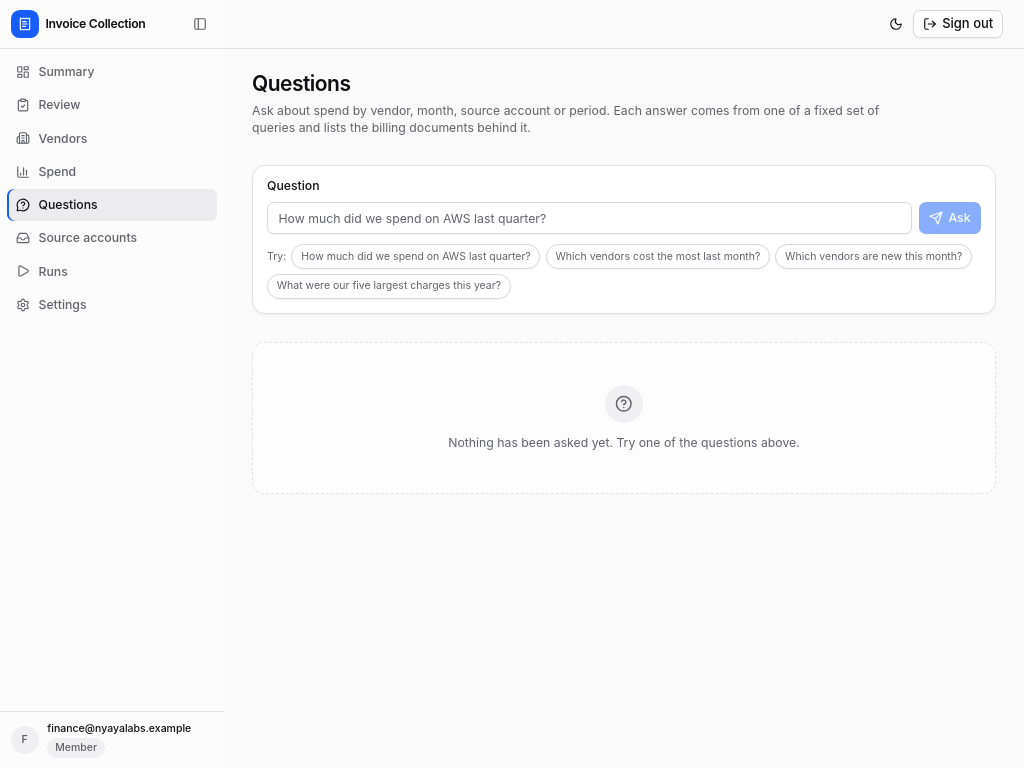
Scenario: an answer shows its sentence, the query in plain words and its result
The width and height of the screenshot is (1024, 768).
Expected: the heading "Questions" is shown, [252,71,350,96]
Type "How much did we spend on AWS this summer?" into the field labelled "Question" at (589,218), box [267,202,912,234]
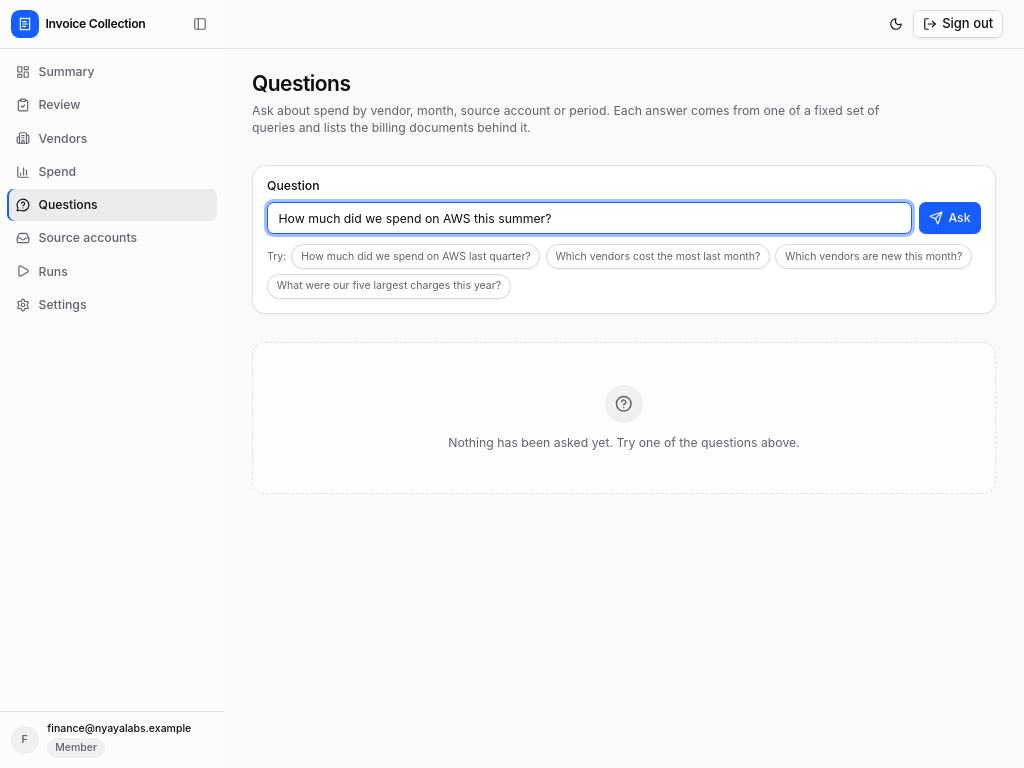
Click the button "Ask" at (950,218), box [919,202,981,234]
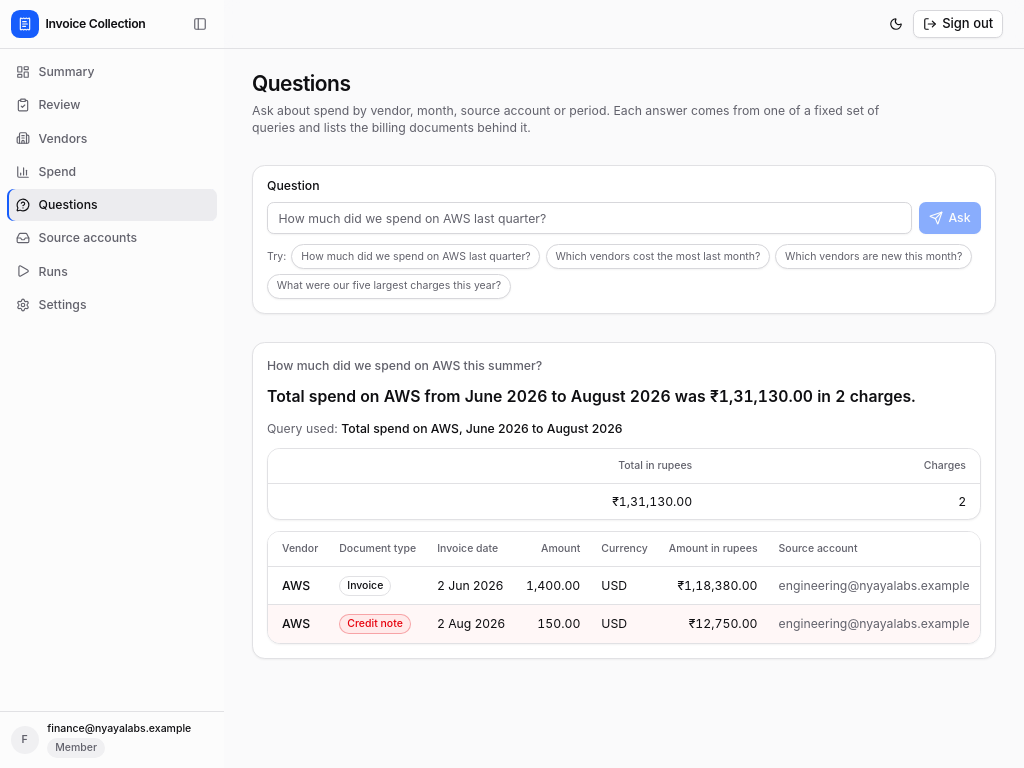
Now the text "Total spend on AWS from June 2026 to August 2026 was ₹1,31,130.00 in 2 charges." is shown, box [267,384,981,409]
Now the text "Total spend on AWS, June 2026 to August 2026" is shown, box [341,420,622,436]
